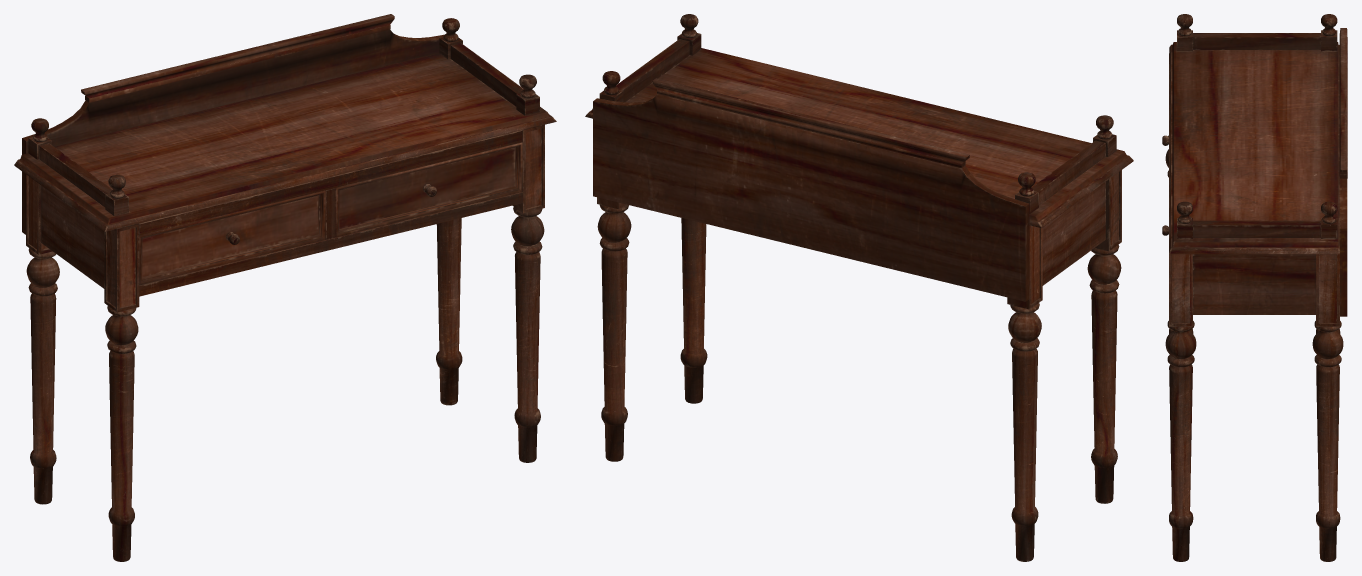
3 views of the same model, side by side, from view 1: azimuth 30°, elevation 25°; view 2: azimuth 150°, elevation 25°; view 3: azimuth 270°, elevation 25° (orthographic). The views are drawn at different scales.
Parts seen in each view (by area): view 1: SM_VictorianTable, SM_VictorianTableBox_2, SM_VictorianTableBox_1; view 2: SM_VictorianTable; view 3: SM_VictorianTable.
Boxes of the visible parts, left/top/right/bottom form: SM_VictorianTable: left=14, top=14, right=556, bottom=561; SM_VictorianTableBox_2: left=336, top=142, right=522, bottom=237; SM_VictorianTableBox_1: left=139, top=190, right=325, bottom=285; SM_VictorianTable: left=585, top=14, right=1133, bottom=561; SM_VictorianTable: left=1165, top=14, right=1347, bottom=561.
Size of the model in its own units: 137 by 114 by 51.91.
Materials: 1 (1 with a texture image).
